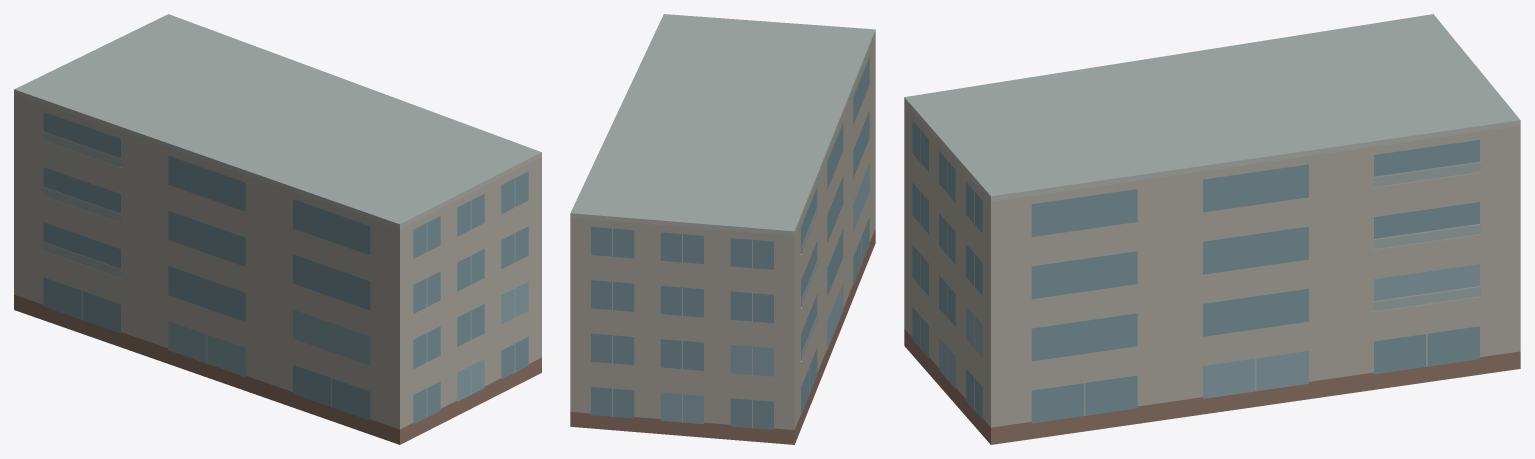
The model's file is survey-upis-33021823.glb.
The picture shows the model from 3 angles, left to right: view 1: azimuth 30°, elevation 25°; view 2: azimuth 150°, elevation 25°; view 3: azimuth 270°, elevation 25°; orthographic projection. The views are drawn at different scales.
Visible parts, largest first — view 1: survey-upis-33021823.tmp; view 2: survey-upis-33021823.tmp; view 3: survey-upis-33021823.tmp.
Part boxes in pixels (x1=…): survey-upis-33021823.tmp: x1=14, y1=14, x2=541, y2=444; survey-upis-33021823.tmp: x1=570, y1=14, x2=875, y2=444; survey-upis-33021823.tmp: x1=904, y1=14, x2=1520, y2=444.
Size of the model in its own units: 17.54 by 11.15 by 25.06.
